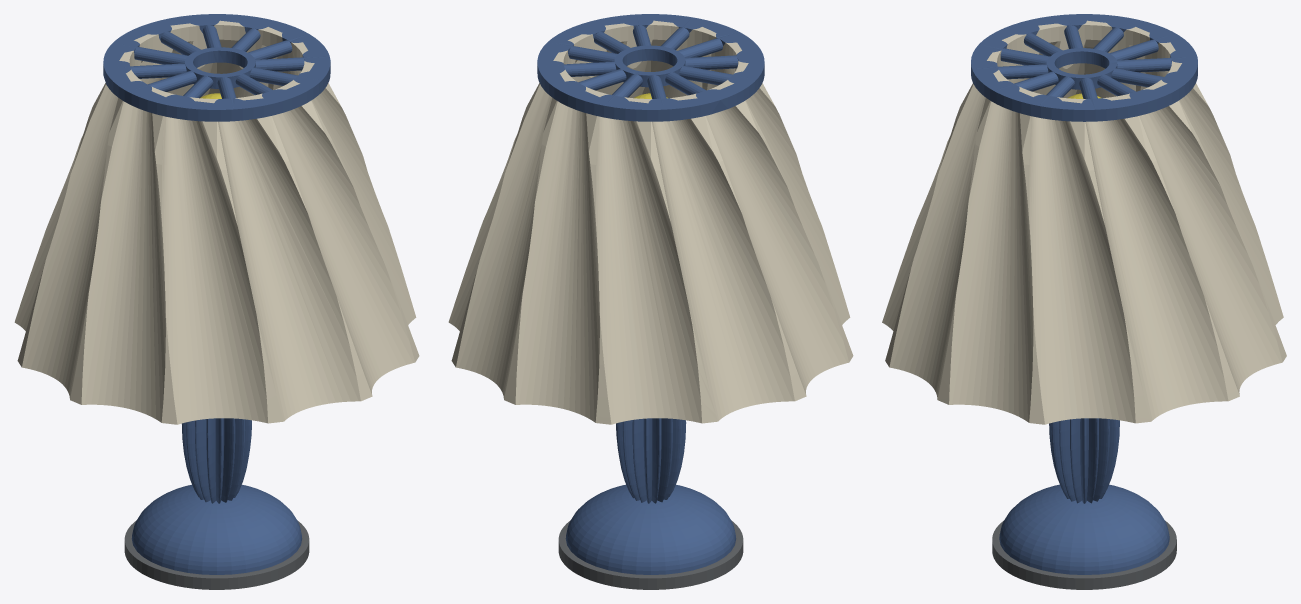
File: lamp_2.glb
3 renders of one model, left to right at view 1: azimuth 30°, elevation 25°; view 2: azimuth 150°, elevation 25°; view 3: azimuth 270°, elevation 25°, orthographic.
Visible parts, largest first — view 1: Mesh_Mesh_head_geo.001_lambert2SG.001; view 2: Mesh_Mesh_head_geo.001_lambert2SG.001; view 3: Mesh_Mesh_head_geo.001_lambert2SG.001.
Boxes of the visible parts, left/top/right/bottom form: Mesh_Mesh_head_geo.001_lambert2SG.001: left=14, top=14, right=419, bottom=589; Mesh_Mesh_head_geo.001_lambert2SG.001: left=448, top=14, right=853, bottom=589; Mesh_Mesh_head_geo.001_lambert2SG.001: left=882, top=14, right=1286, bottom=589.
Size of the model in its own units: 12 by 16 by 12.
